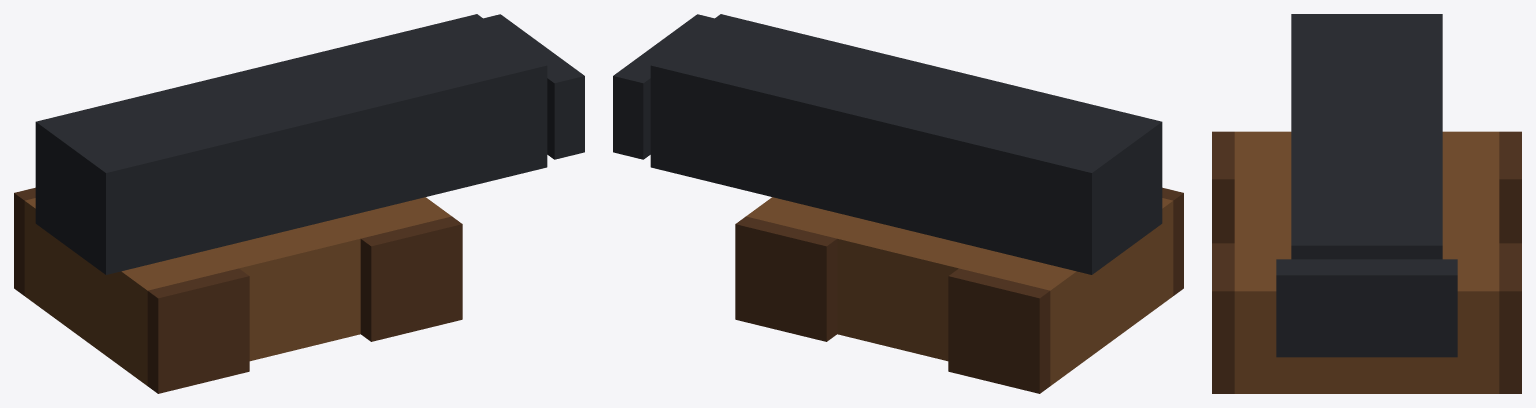
Rendered from dba-cannon.glb.
3 views of the same model, side by side, from view 1: azimuth 30°, elevation 25°; view 2: azimuth 150°, elevation 25°; view 3: azimuth 270°, elevation 25° (orthographic). The views are drawn at different scales.
Parts seen in each view (by area): view 1: box-prop; view 2: box-prop; view 3: box-prop.
Part boxes in pixels (<box>): box-prop: <box>14,14,584,393</box>; box-prop: <box>613,14,1183,393</box>; box-prop: <box>1212,14,1521,393</box>.
Size of the model in its own units: 1.55 by 0.62 by 0.82.
